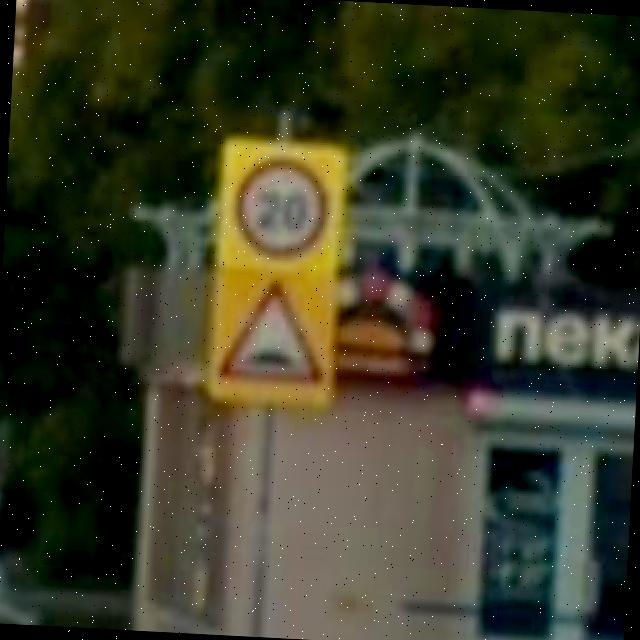Ograniczenie predkosci do 20: (228, 150, 334, 266)
